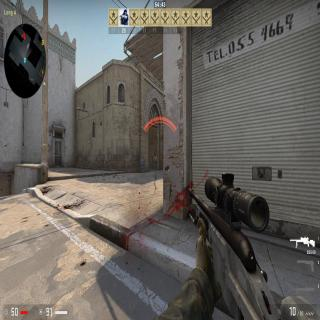T-Body: (154, 152, 158, 168), (151, 154, 154, 168)
T-Head: (155, 152, 156, 156), (152, 154, 153, 156)
